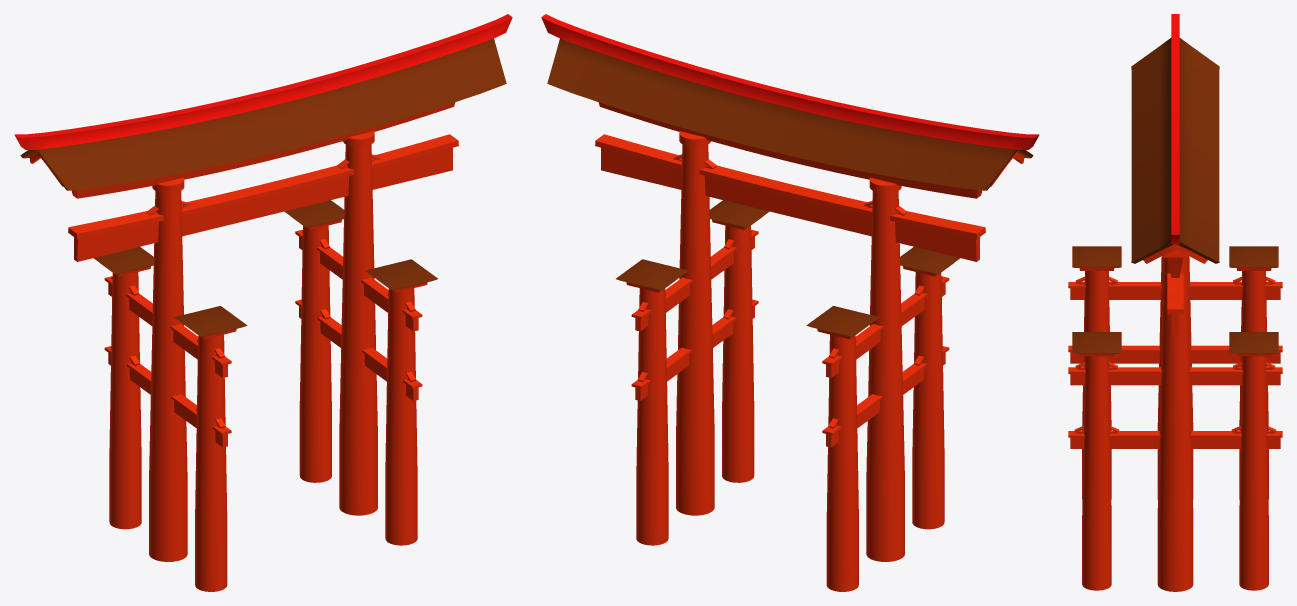
Rendered from Torii.fbx.
3 views of the same model, side by side, from view 1: azimuth 30°, elevation 25°; view 2: azimuth 150°, elevation 25°; view 3: azimuth 270°, elevation 25° (orthographic). The views are drawn at different scales.
Parts seen in each view (by area): view 1: Torii; view 2: Torii; view 3: Torii.
Boxes of the visible parts, left/top/right/bottom form: Torii: left=14, top=14, right=512, bottom=591; Torii: left=541, top=14, right=1039, bottom=591; Torii: left=1068, top=14, right=1282, bottom=591.
Size of the model in its own units: 675 by 594 by 277.
